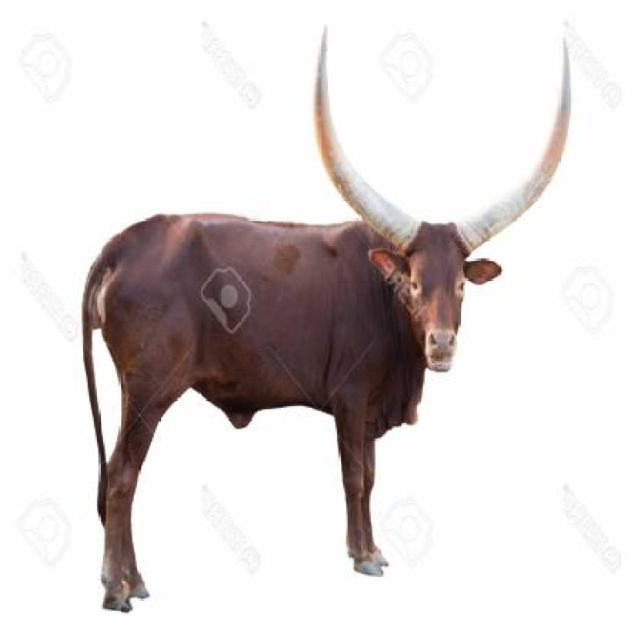Cow: (77, 29, 574, 614)
